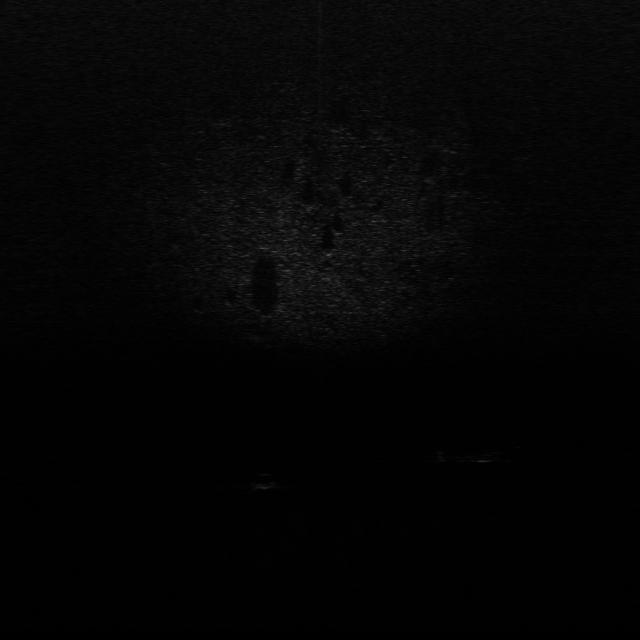ball: (248, 467, 283, 492)
human body: (434, 442, 528, 466)
